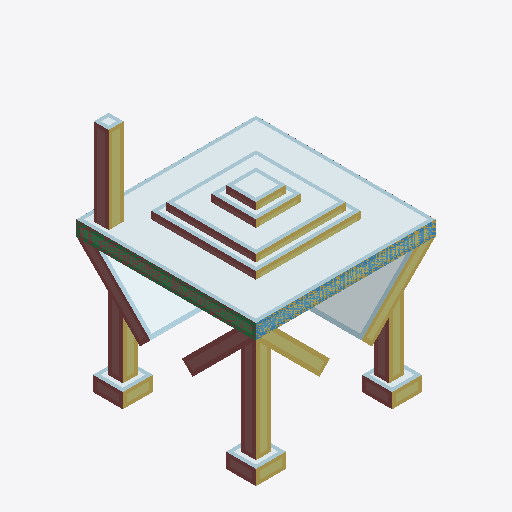
Isometric view (azimuth 45°, elevation 35.3°) of a Minecraft model made of 23 cuboids, textured from the same repository.
Visible parts, largest first — b0, b7, b2, b3, b6, l3, antenna_stick, b11, b12, l2, l0, l7 (+6 smaller).
Part boxes in pixels (x1,y1,x2,y2): b0: (76, 116, 434, 322); b7: (166, 151, 345, 261); b2: (309, 237, 434, 345); b3: (78, 239, 201, 345); b6: (151, 203, 360, 279); l3: (241, 341, 270, 459); antenna_stick: (94, 113, 123, 229); b11: (256, 219, 435, 339); b12: (77, 221, 255, 340); l2: (374, 292, 403, 382); l0: (108, 292, 137, 382); l7: (362, 365, 421, 408).
Bounding box in the file's own units: 12.05 × 15.8 × 12.05.